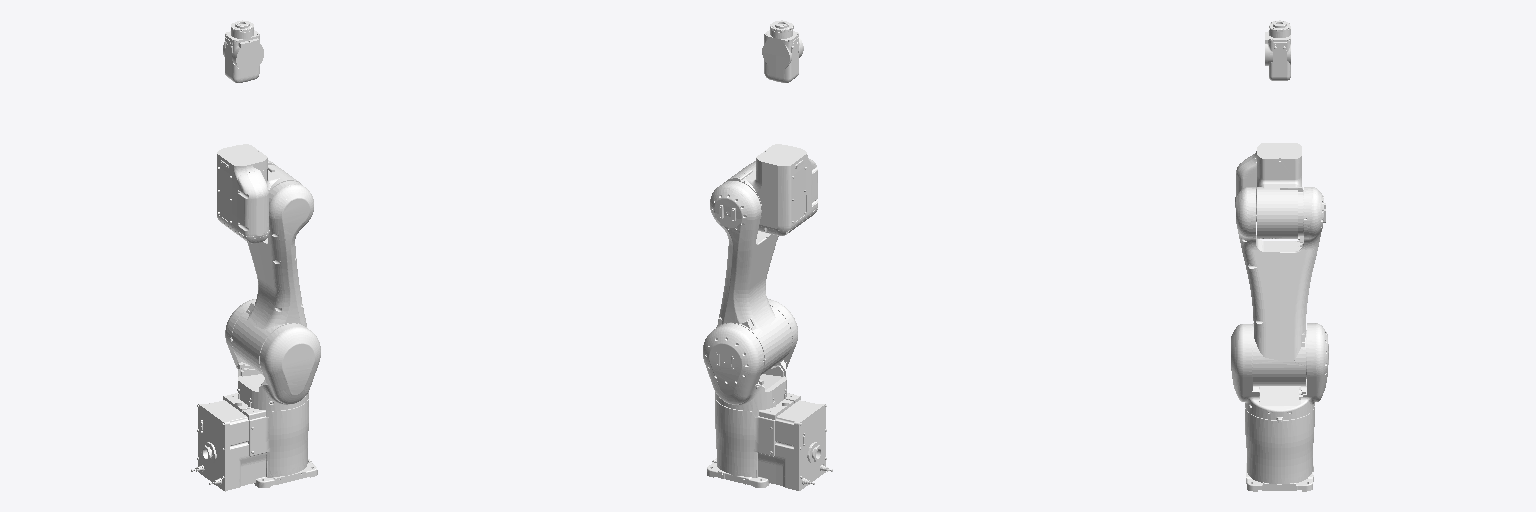
robot.urdf — rv8crl:
<?xml version="1.0" ?>
<robot name="rv8crl">
  <material name="white">
    <color rgba="1.0 1.0 1.0 1.0"/>
  </material>
  <joint name="rv8crl_world_to_base" type="fixed">
    <origin rpy="0 0 0" xyz="0.0 0.0 0.0"/>
    <parent link="world"/>
    <child link="rv8crl_base"/>
  </joint>
  <joint name="rv8crl_joint_1" type="revolute">
    <origin rpy="0 0 0" xyz="0.0 0.0 0.0"/>
    <parent link="rv8crl_base"/>
    <child link="rv8crl_shoulder"/>
    <axis xyz="0 0 1"/>
    <limit effort="1" lower="-2.9670597283903604" upper="2.9670597283903604" velocity="5.026548245743669"/>
  </joint>
  <joint name="rv8crl_joint_2" type="revolute">
    <origin rpy="0 0 0" xyz="0.0 0.0 0.39"/>
    <parent link="rv8crl_shoulder"/>
    <child link="rv8crl_upper_arm"/>
    <axis xyz="0 1 0"/>
    <limit effort="1" lower="-1.9198621771937625" upper="1.9198621771937625" velocity="5.602506898901797"/>
  </joint>
  <joint name="rv8crl_joint_3" type="revolute">
    <origin rpy="0 0 0" xyz="0.0 0.0 0.45"/>
    <parent link="rv8crl_upper_arm"/>
    <child link="rv8crl_elbow"/>
    <axis xyz="0 1 0"/>
    <limit effort="1" lower="0.0" upper="2.8797932657906435" velocity="6.283185307179586"/>
  </joint>
  <joint name="rv8crl_joint_4" type="revolute">
    <origin rpy="0 0 0" xyz="-0.1 0.0 0.0"/>
    <parent link="rv8crl_elbow"/>
    <child link="rv8crl_forearm"/>
    <axis xyz="0 0 1"/>
    <limit effort="1" lower="-3.490658503988659" upper="3.490658503988659" velocity="5.88175957922089"/>
  </joint>
  <joint name="rv8crl_joint_5" type="revolute">
    <origin rpy="0 0 0" xyz="0.0 0.0 0.47"/>
    <parent link="rv8crl_forearm"/>
    <child link="rv8crl_wrist"/>
    <axis xyz="0 1 0"/>
    <limit effort="1" lower="-2.0943951023931953" upper="2.0943951023931953" velocity="7.853981633974483"/>
  </joint>
  <joint name="rv8crl_joint_6" type="revolute">
    <origin rpy="0 0 0" xyz="0.0 0.0 0.085"/>
    <parent link="rv8crl_wrist"/>
    <child link="rv8crl_hand_flange"/>
    <axis xyz="0 0 1"/>
    <limit effort="1" lower="-6.283185307179586" upper="6.283185307179586" velocity="12.566370614359172"/>
  </joint>
  <joint name="rv8crl_hand_tcp" type="fixed">
    <origin rpy="0 0 0" xyz="0.0 0.0 0.0"/>
    <parent link="rv8crl_hand_flange"/>
    <child link="rv8crl_default_tcp"/>
  </joint>
  <link name="world"/>
  <link name="rv8crl_base">
    <visual>
      <material name="white"/>
      <origin rpy="0 0 0" xyz="0 0 0"/>
      <geometry>
        <mesh filename="package://melfa_description/meshes/rv8crl/base.STL"/>
      </geometry>
    </visual>
    <collision>
      <origin rpy="0 0 0" xyz="0 0 0"/>
      <geometry>
        <mesh filename="package://melfa_description/meshes/rv8crl/base.STL"/>
      </geometry>
    </collision>
  </link>
  <link name="rv8crl_shoulder">
    <visual>
      <material name="white"/>
      <origin rpy="0 0 0" xyz="0 0 0"/>
      <geometry>
        <mesh filename="package://melfa_description/meshes/rv8crl/shoulder.STL"/>
      </geometry>
    </visual>
    <collision>
      <origin rpy="0 0 0" xyz="0 0 0"/>
      <geometry>
        <mesh filename="package://melfa_description/meshes/rv8crl/shoulder.STL"/>
      </geometry>
    </collision>
  </link>
  <link name="rv8crl_upper_arm">
    <visual>
      <material name="white"/>
      <origin rpy="0 0 0" xyz="0 0 0"/>
      <geometry>
        <mesh filename="package://melfa_description/meshes/rv8crl/upper_arm.STL"/>
      </geometry>
    </visual>
    <collision>
      <origin rpy="0 0 0" xyz="0 0 0"/>
      <geometry>
        <mesh filename="package://melfa_description/meshes/rv8crl/upper_arm.STL"/>
      </geometry>
    </collision>
  </link>
  <link name="rv8crl_elbow">
    <visual>
      <material name="white"/>
      <origin rpy="0 0 0" xyz="0 0 0"/>
      <geometry>
        <mesh filename="package://melfa_description/meshes/rv8crl/elbow.STL"/>
      </geometry>
    </visual>
    <collision>
      <origin rpy="0 0 0" xyz="0 0 0"/>
      <geometry>
        <mesh filename="package://melfa_description/meshes/rv8crl/elbow.STL"/>
      </geometry>
    </collision>
  </link>
  <link name="rv8crl_forearm">
    <visual>
      <material name="white"/>
      <origin rpy="0 0 0" xyz="0 0 0"/>
      <geometry>
        <mesh filename="package://melfa_description/meshes/rv8crl/forearm.STL"/>
      </geometry>
    </visual>
    <collision>
      <origin rpy="0 0 0" xyz="0 0 0"/>
      <geometry>
        <mesh filename="package://melfa_description/meshes/rv8crl/forearm.STL"/>
      </geometry>
    </collision>
  </link>
  <link name="rv8crl_wrist">
    <visual>
      <material name="white"/>
      <origin rpy="0 0 0" xyz="0 0 0"/>
      <geometry>
        <mesh filename="package://melfa_description/meshes/rv8crl/wrist.STL"/>
      </geometry>
    </visual>
    <collision>
      <origin rpy="0 0 0" xyz="0 0 0"/>
      <geometry>
        <mesh filename="package://melfa_description/meshes/rv8crl/wrist.STL"/>
      </geometry>
    </collision>
  </link>
  <link name="rv8crl_hand_flange">
    <visual>
      <material name="white"/>
      <origin rpy="0 0 0" xyz="0 0 0"/>
      <geometry>
        <mesh filename="package://melfa_description/meshes/rv8crl/hand_flange.STL"/>
      </geometry>
    </visual>
    <collision>
      <origin rpy="0 0 0" xyz="0 0 0"/>
      <geometry>
        <mesh filename="package://melfa_description/meshes/rv8crl/hand_flange.STL"/>
      </geometry>
    </collision>
  </link>
  <link name="rv8crl_default_tcp"/>
</robot>

--- Facts derived from the render (not from the file) ---
The picture shows the robot from 3 angles, left to right: view 1: azimuth 30°, elevation 25°; view 2: azimuth 150°, elevation 25°; view 3: azimuth 270°, elevation 25°; orthographic projection.
Model rv8crl with 9 links and 8 joints (6 revolute, 2 fixed), rooted at world, posed every joint at zero.
Visible links, largest first — view 1: rv8crl_base, rv8crl_upper_arm, rv8crl_shoulder, rv8crl_elbow, rv8crl_wrist; view 2: rv8crl_base, rv8crl_upper_arm, rv8crl_shoulder, rv8crl_elbow, rv8crl_wrist; view 3: rv8crl_upper_arm, rv8crl_elbow, rv8crl_shoulder, rv8crl_base, rv8crl_wrist.
Link boxes in pixels (x1,y1,x2,y2): rv8crl_base: [191, 393, 317, 491]; rv8crl_upper_arm: [232, 160, 313, 375]; rv8crl_shoulder: [225, 299, 320, 410]; rv8crl_elbow: [217, 144, 300, 243]; rv8crl_wrist: [223, 21, 263, 82]; rv8crl_base: [707, 393, 832, 490]; rv8crl_upper_arm: [710, 161, 791, 374]; rv8crl_shoulder: [703, 299, 797, 410]; rv8crl_elbow: [724, 144, 817, 235]; rv8crl_wrist: [762, 21, 803, 82]; rv8crl_upper_arm: [1235, 187, 1325, 385]; rv8crl_elbow: [1236, 143, 1303, 238]; rv8crl_shoulder: [1231, 323, 1328, 422]; rv8crl_base: [1245, 406, 1314, 491]; rv8crl_wrist: [1265, 21, 1290, 80].
Bounding box of the posed robot: 0.35 × 0.281 × 1.4 m (x, y, z).
Meshes: 7 distinct files referenced, 6 mesh visuals loaded (6 binary STL); not drawn: 1 (reference not matched to a file when rendering).
